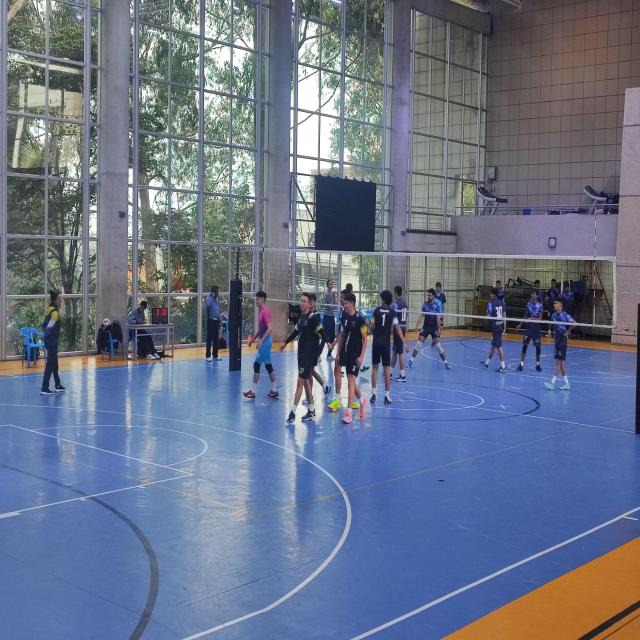volleyball: (102, 318, 110, 328)
